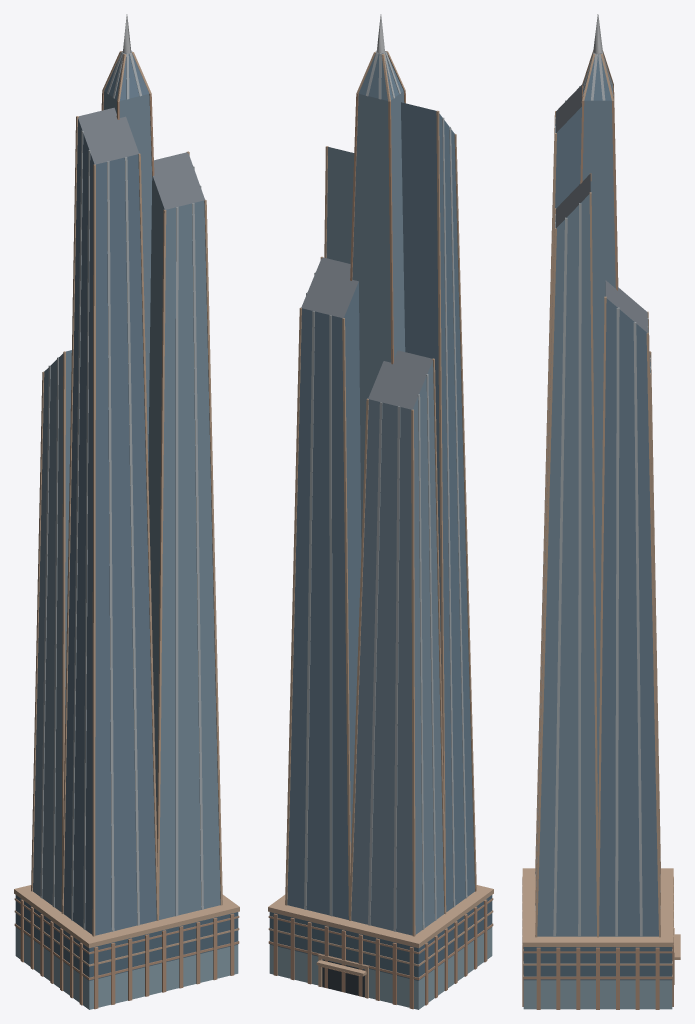
The model's file is vanderbilt.glb.
3 views of the same model, side by side, from view 1: azimuth 30°, elevation 25°; view 2: azimuth 150°, elevation 25°; view 3: azimuth 270°, elevation 25° (orthographic).
Parts seen in each view (by area): view 1: vanderbilt; view 2: vanderbilt; view 3: vanderbilt.
Boxes of the visible parts, x1,y1,x2,y2 form: vanderbilt: (14,14,239,1009); vanderbilt: (268,14,493,1009); vanderbilt: (522,14,680,1009).
Bounding box in the file's own units: 71.2 × 427 × 63.95.
